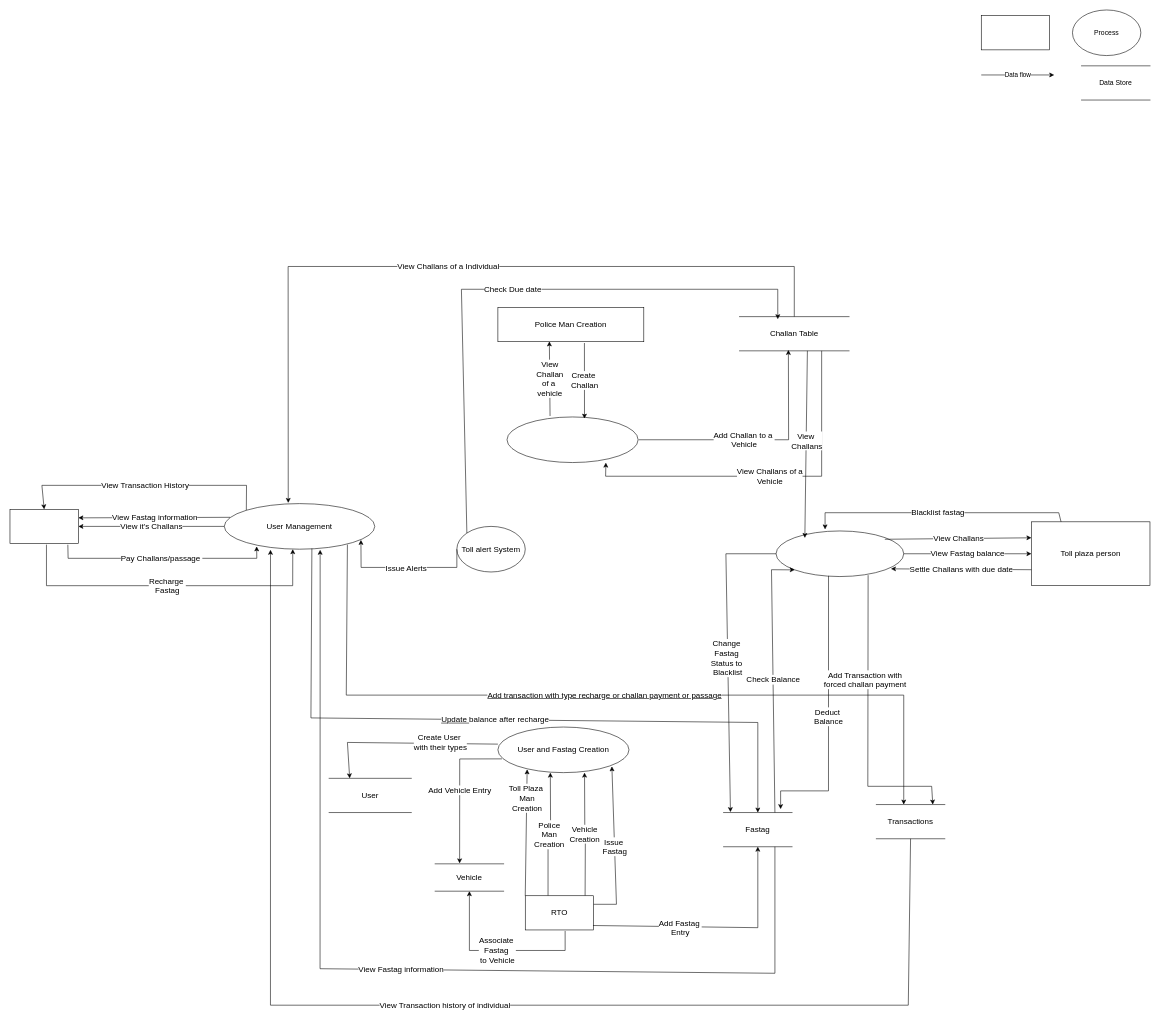
Some shapes in this 1160 by 1020 pixel diagram are drawn without their labels. Each missing label, with the centre of its shape:
Challan Deduction and Toll deduction: (x=839, y=553)
Challan Management: (x=572, y=439)
External Entity: (x=1015, y=32)
Vehicle Owner: (x=43, y=526)
